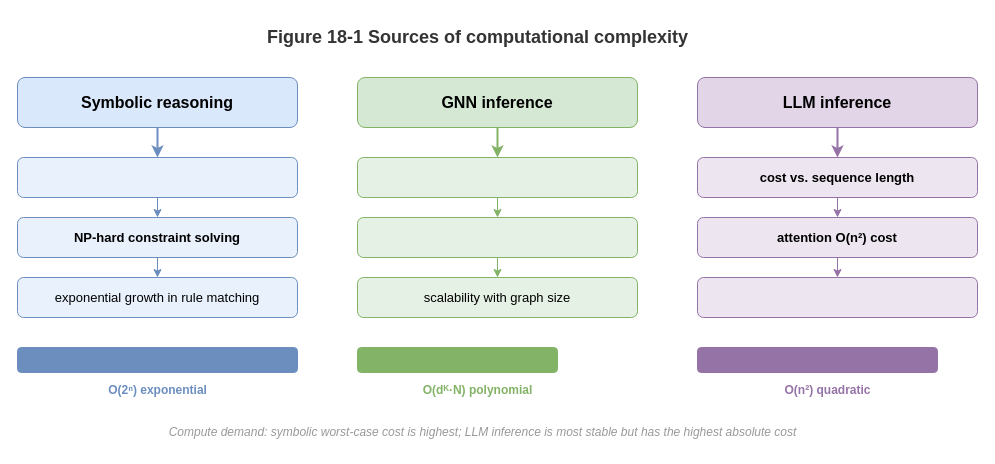
Some shapes in this 995 by 464 pixel diagram are drawn without their labels. The shapes that lost their labels are listed below. From the top down, each one's centre as x and y in pixels, then its label:
At (157,177): "combinatorial explosion".
At (497,177): "neighbor explosion".
At (497,237): "multi-hop aggregation cost".
At (837,297): "parameter scale and inference latency".
